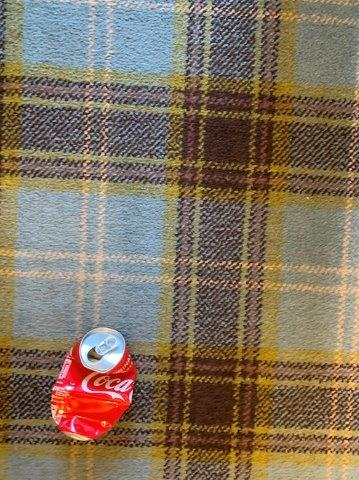kaleng: (52, 329, 132, 437)
